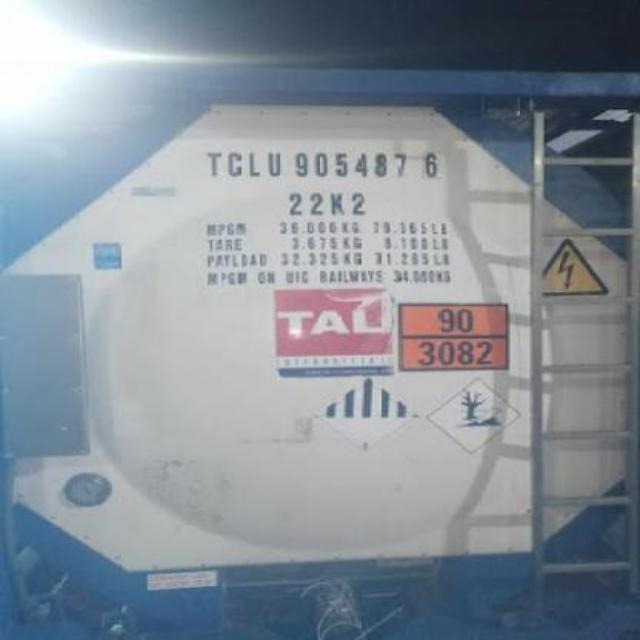0: (312, 151, 330, 177)
4: (352, 152, 372, 178)
5: (330, 152, 350, 178)
6: (420, 152, 440, 178)
7: (392, 151, 408, 177)
8: (372, 151, 390, 177)
9: (292, 152, 310, 178)
C: (227, 148, 243, 178)
L: (244, 148, 264, 178)
T: (207, 148, 223, 176)
U: (267, 150, 283, 180)
